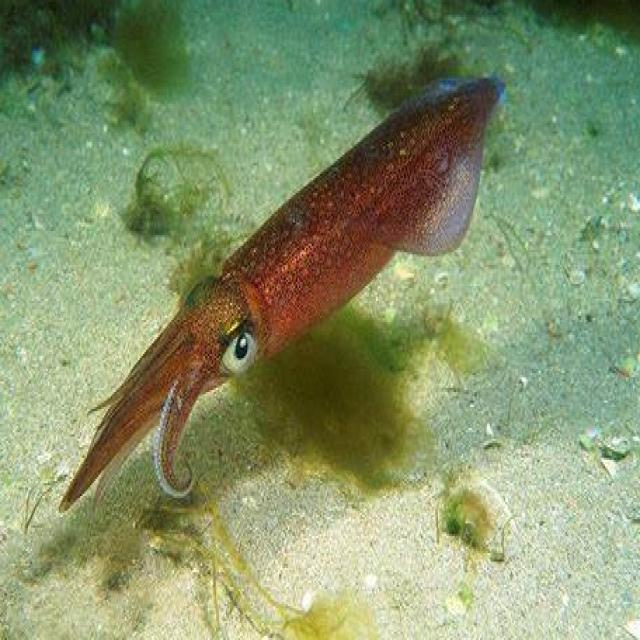SQUID: (49, 53, 520, 526)
